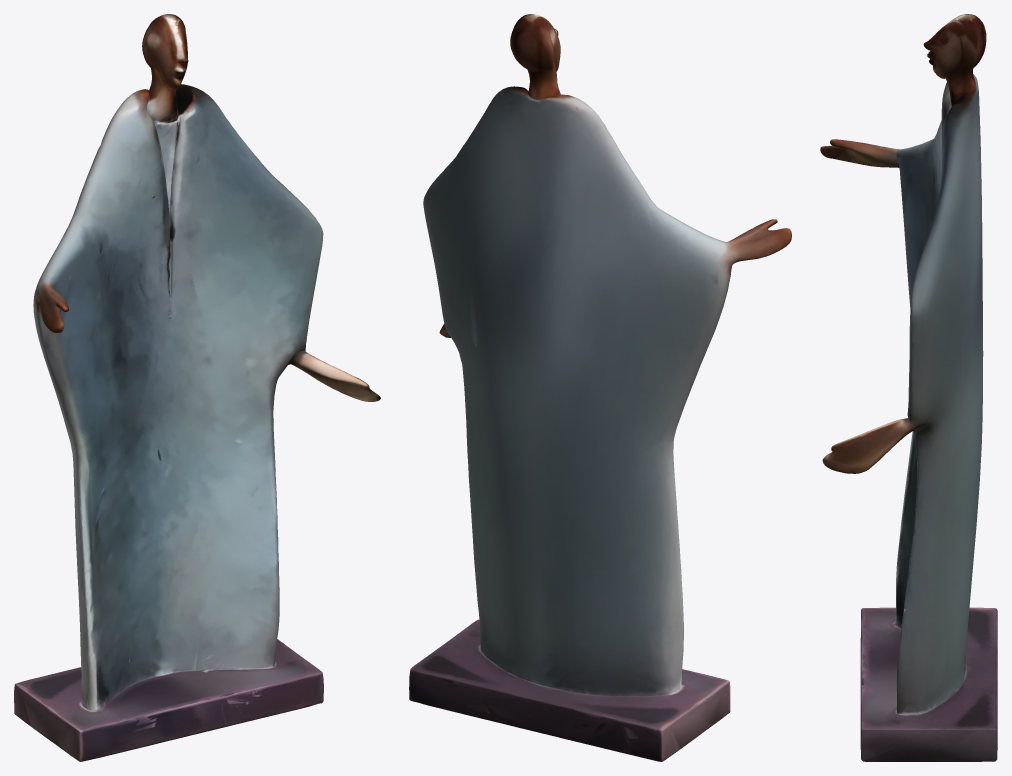
Rendered from song.glb.
3 renders of one model, left to right at view 1: azimuth 30°, elevation 25°; view 2: azimuth 150°, elevation 25°; view 3: azimuth 270°, elevation 25°, orthographic. The views are drawn at different scales.
Parts seen in each view (by area): view 1: model; view 2: model; view 3: model.
Boxes of the visible parts, x1=… form: model: x1=14, y1=14, x2=380, y2=761; model: x1=409, y1=14, x2=791, y2=761; model: x1=820, y1=14, x2=997, y2=761.
Bounding box in the file's own units: 0.9551 × 1.89 × 0.4385.
1 material, 1 textured.
